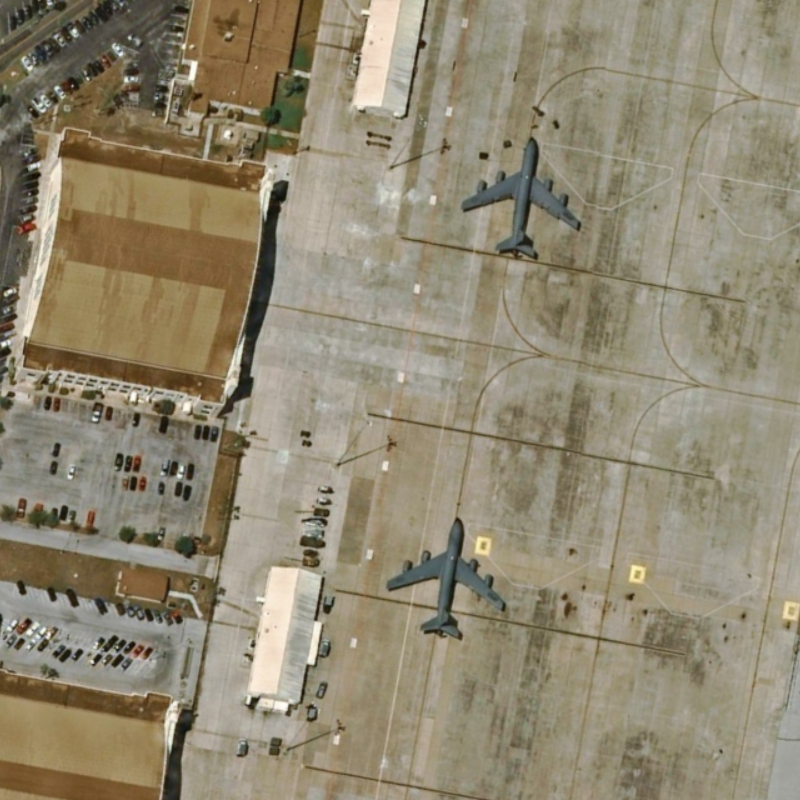A14: (382, 511, 512, 641), (456, 134, 585, 263)
